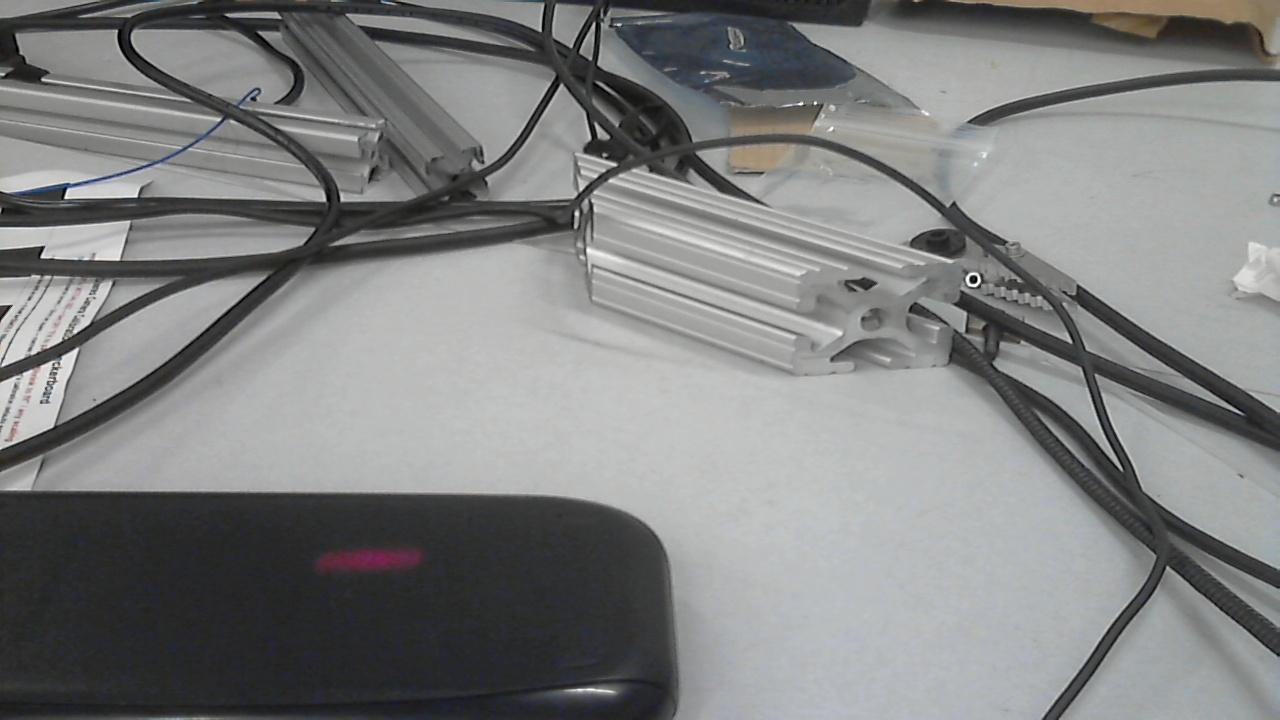Object graphing calculator slide case - Material plastic - Pdfname as1D2765rACT: (298, 524, 439, 586)
